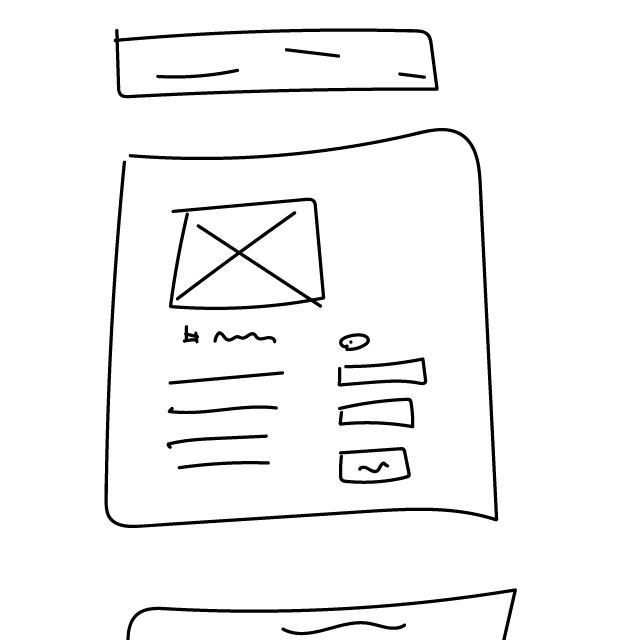button: (337, 444, 417, 488)
checkbox: (340, 331, 373, 354)
container: (101, 125, 516, 531)
footer: (117, 582, 534, 640)
frame: (165, 197, 337, 319)
heading: (178, 324, 283, 357)
input: (338, 392, 421, 431), (335, 357, 434, 388)
nav: (108, 24, 447, 102)
text: (161, 366, 290, 477)
